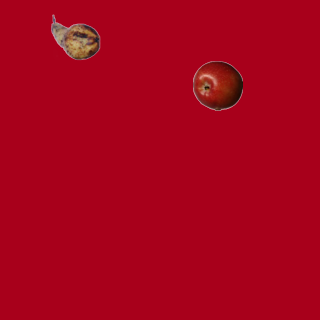Apple Braeburn: (192, 60, 242, 110)
Pear Abate: (50, 12, 100, 62)
